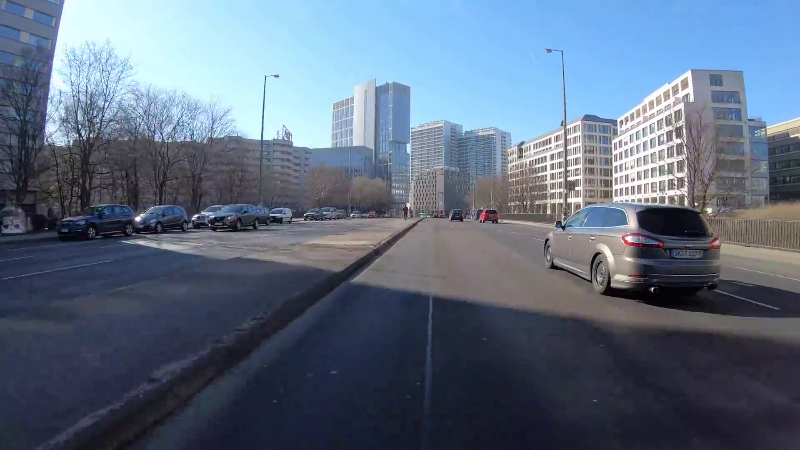Plate: (668, 247, 705, 260)
